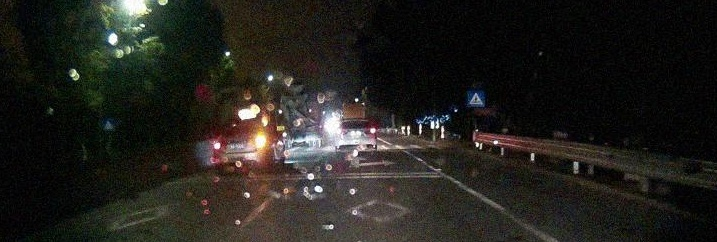L_light: (335, 128, 348, 134), (213, 142, 221, 150)
R_light: (362, 127, 377, 135), (256, 136, 266, 147)
T_light: (237, 122, 248, 125), (351, 120, 361, 122)
night-no: (334, 118, 377, 155)
night-right: (212, 119, 272, 172)
